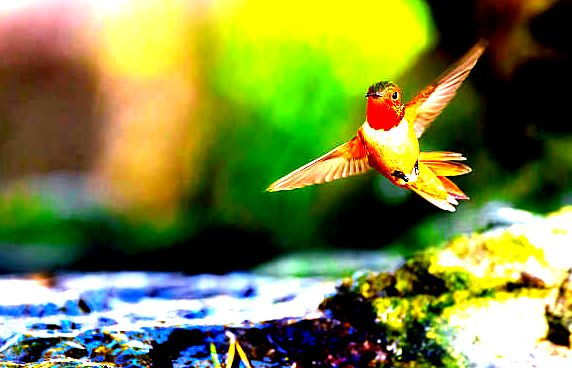Bird: (258, 37, 490, 224)
